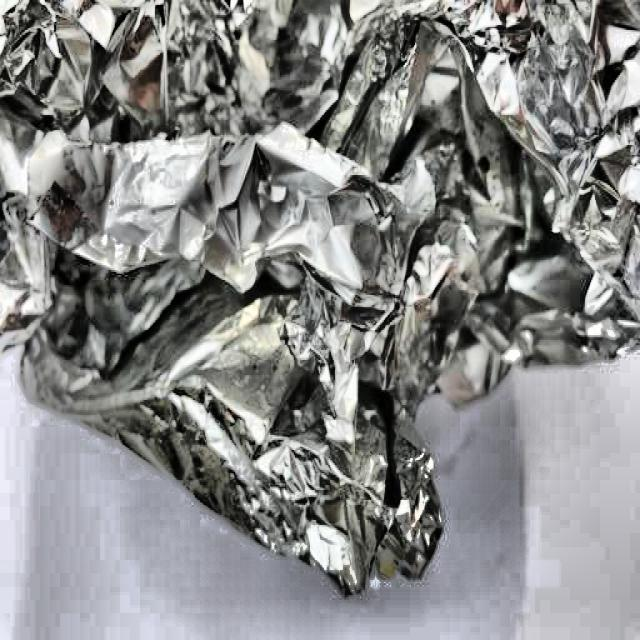metal: (2, 0, 640, 582)
